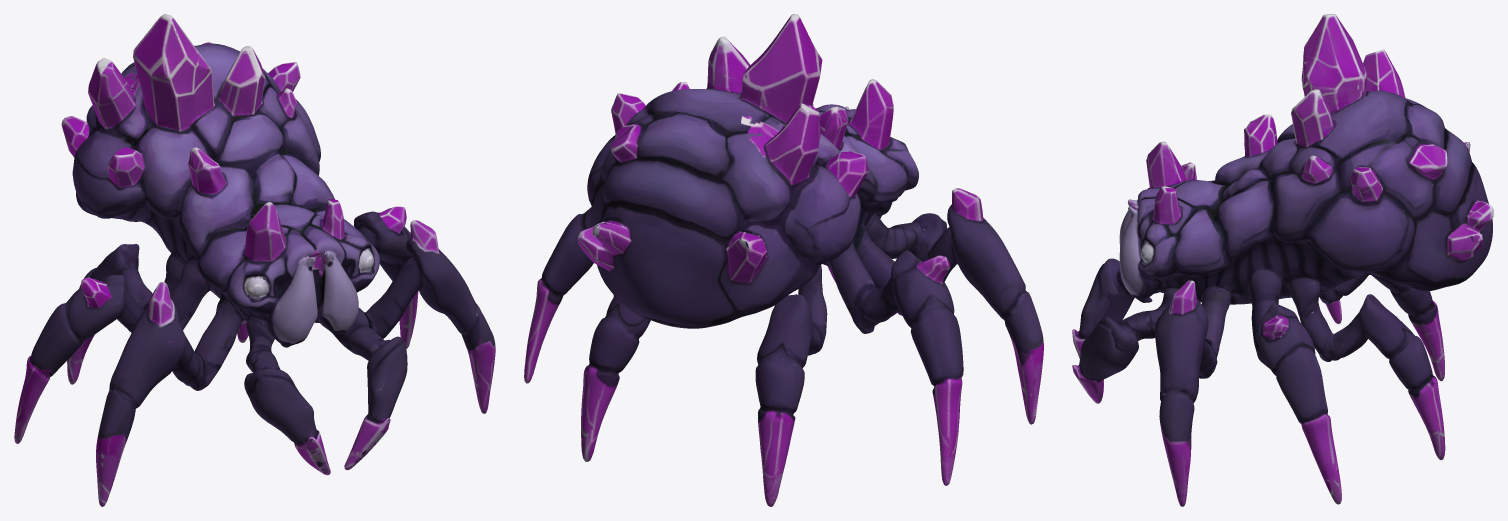
Rendered from Meshy_AI_Crystacrawler_0416013400_texture.fbx.
3 renders of one model, left to right at view 1: azimuth 30°, elevation 25°; view 2: azimuth 150°, elevation 25°; view 3: azimuth 270°, elevation 25°, orthographic. The views are drawn at different scales.
Parts seen in each view (by area): view 1: Mesh1.0; view 2: Mesh1.0; view 3: Mesh1.0.
Boxes of the visible parts, <box> form: Mesh1.0: <box>14,14,495,506</box>; Mesh1.0: <box>524,14,1043,506</box>; Mesh1.0: <box>1072,14,1493,506</box>.
Size of the model in its own units: 191 by 186 by 185.
Materials: 1 (1 with a texture image).
